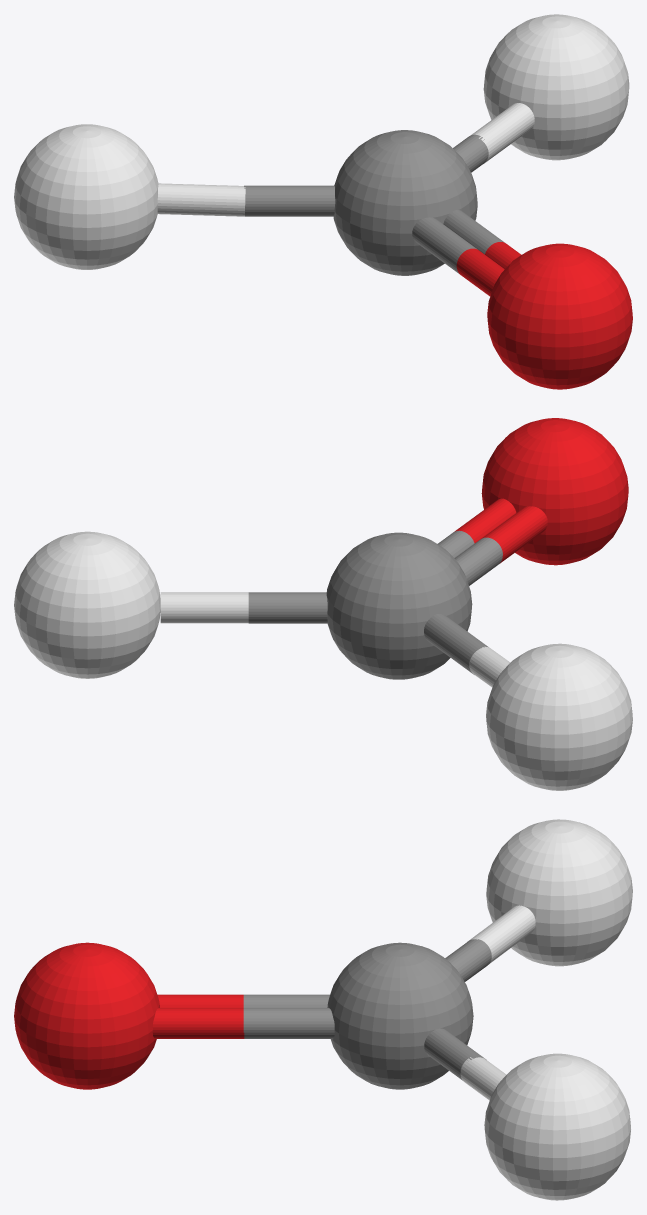
Rendered from formeldihyde.fbx.
3 renders of one model, top to bottom at view 1: azimuth 30°, elevation 25°; view 2: azimuth 150°, elevation 25°; view 3: azimuth 270°, elevation 25°, orthographic.
Parts seen in each view (by area): view 1: Sphere.010, Sphere.003, Sphere.002, Sphere.004, Cylinder.007, Cylinder.010, Cylinder.008, Cylinder.000, Cylinder.001, Cylinder.003, Cylinder.006, Cylinder.017; view 2: Sphere.002, Sphere.003, Sphere.004, Sphere.010, Cylinder.008, Cylinder.006, Cylinder.007, Cylinder.001, Cylinder.000, Cylinder.017, Cylinder.010, Cylinder.003; view 3: Sphere.002, Sphere.010, Sphere.003, Sphere.004, Cylinder.003, Cylinder.017, Cylinder.010, Cylinder.006, Cylinder.008, Cylinder.000, Cylinder.007, Cylinder.001.
Part boxes in pixels (x1,y1,x2,y2): Sphere.010: [487, 243, 632, 389]; Sphere.003: [14, 124, 158, 269]; Sphere.002: [483, 14, 629, 160]; Sphere.004: [333, 130, 477, 275]; Cylinder.007: [244, 185, 335, 216]; Cylinder.010: [157, 183, 245, 216]; Cylinder.008: [471, 103, 534, 163]; Cylinder.000: [412, 217, 477, 273]; Cylinder.001: [456, 248, 504, 296]; Cylinder.003: [443, 210, 504, 254]; Cylinder.006: [453, 134, 488, 172]; Cylinder.017: [485, 242, 521, 268]; Sphere.002: [14, 531, 160, 678]; Sphere.003: [486, 643, 632, 790]; Sphere.004: [326, 532, 472, 679]; Sphere.010: [481, 418, 628, 565]; Cylinder.008: [160, 592, 248, 623]; Cylinder.006: [248, 592, 327, 623]; Cylinder.007: [424, 614, 488, 674]; Cylinder.001: [481, 506, 547, 563]; Cylinder.000: [454, 537, 502, 585]; Cylinder.017: [454, 498, 516, 543]; Cylinder.010: [469, 646, 510, 687]; Cylinder.003: [438, 530, 474, 558]; Sphere.002: [484, 1053, 630, 1200]; Sphere.010: [14, 942, 159, 1089]; Sphere.003: [486, 819, 632, 966]; Sphere.004: [327, 942, 473, 1089]; Cylinder.003: [243, 1008, 334, 1038]; Cylinder.017: [152, 1008, 244, 1038]; Cylinder.010: [467, 905, 535, 963]; Cylinder.006: [424, 1028, 486, 1080]; Cylinder.008: [460, 1057, 506, 1100]; Cylinder.000: [243, 994, 329, 1007]; Cylinder.007: [445, 939, 491, 981]; Cylinder.001: [157, 994, 243, 1007].
Bounding box in the file's own units: 71.4 × 15.88 × 63.91.
